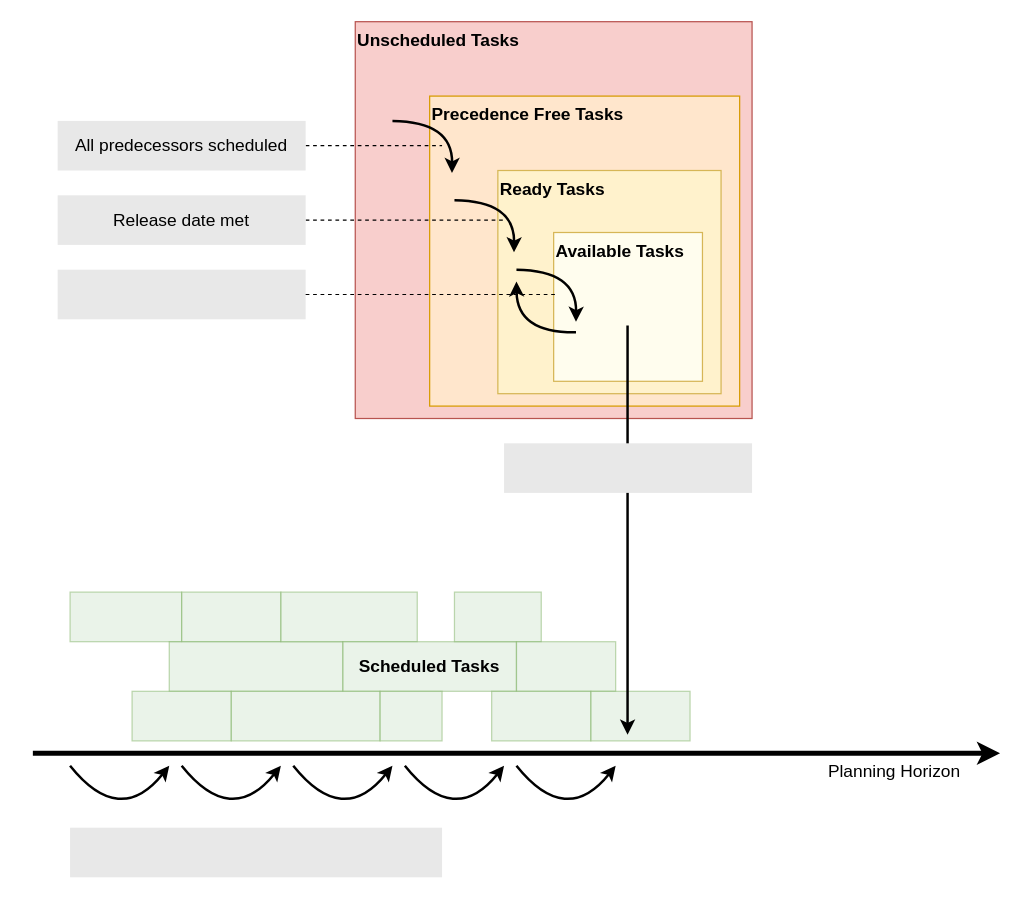
This 1033x899 diagram has some shape labels left out. The shapes that lost their labels are listed below. From the top down, each one's centre as x and y in pixels, then its label:
At point 181,294: "Sufficient / Insufficient resources".
At point 627,467: "Select based on priority and clustering rules".
At point 255,852: "Iterating over the planning horizon and scheduling available tasks".
